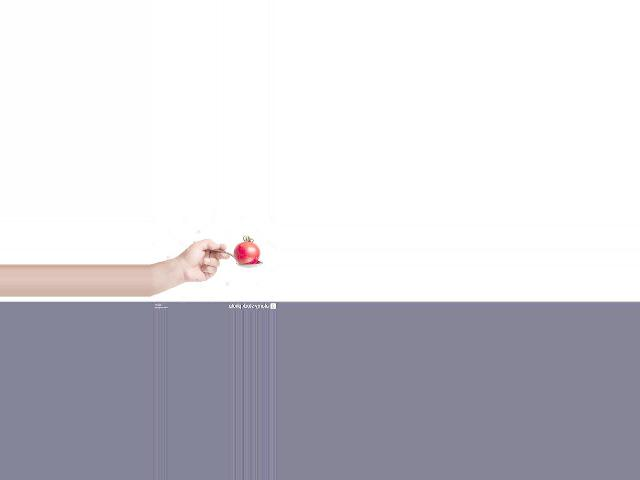tomato: (233, 241, 259, 264)
